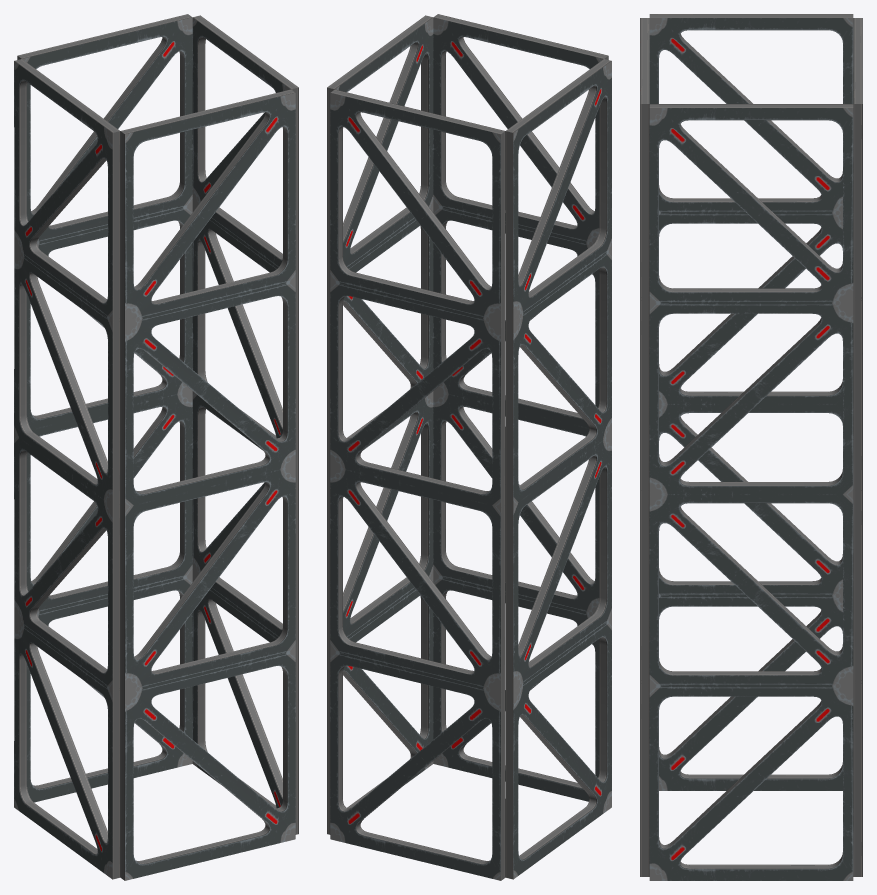
The model's file is metal_support.glb.
The picture shows the model from 3 angles, left to right: view 1: azimuth 30°, elevation 25°; view 2: azimuth 150°, elevation 25°; view 3: azimuth 270°, elevation 25°; orthographic projection. The views are drawn at different scales.
Parts seen in each view (by area): view 1: Column_MetalSupport; view 2: Column_MetalSupport; view 3: Column_MetalSupport.
Part boxes in pixels (<box>): Column_MetalSupport: <box>14,14,298,880</box>; Column_MetalSupport: <box>327,14,611,880</box>; Column_MetalSupport: <box>640,14,862,880</box>.
Bounding box in the file's own units: 1.04 × 4 × 1.04.
2 materials, 2 textured.
